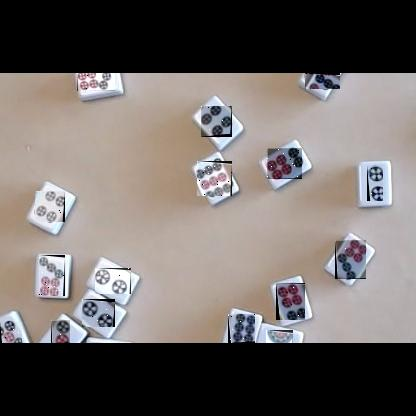1p: (266, 330, 293, 343)
2p: (95, 268, 131, 294), (82, 299, 115, 327), (367, 165, 383, 201)
3p: (51, 320, 70, 343)
4p: (201, 106, 232, 137), (35, 191, 65, 222)
5p: (0, 321, 22, 343)
6p: (267, 148, 302, 179), (276, 283, 305, 320)
7p: (335, 240, 366, 279), (39, 255, 65, 296), (77, 73, 115, 91)
8p: (228, 314, 255, 343)
9p: (197, 161, 232, 196), (305, 73, 340, 89)
